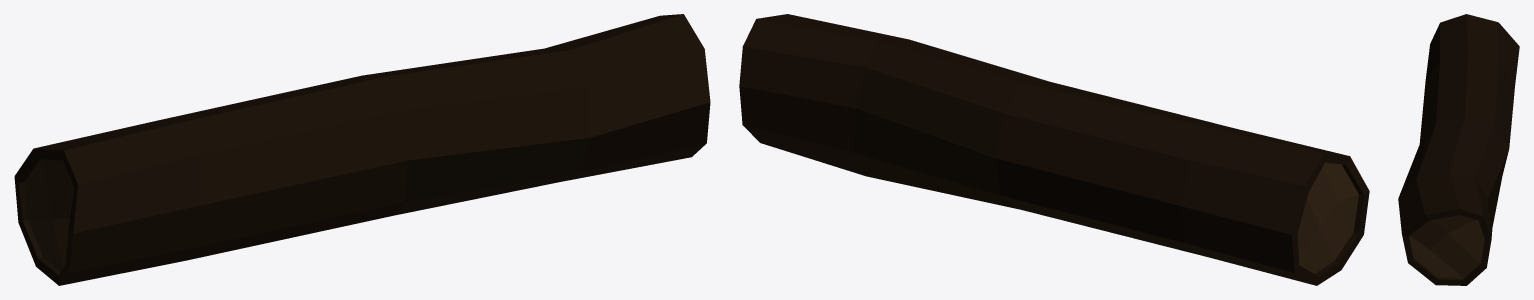
The model's file is Log06_FBX.fbx.
The picture shows the model from 3 angles, left to right: view 1: azimuth 30°, elevation 25°; view 2: azimuth 150°, elevation 25°; view 3: azimuth 270°, elevation 25°; orthographic projection. The views are drawn at different scales.
Visible parts, largest first — view 1: LOG 16; view 2: LOG 16; view 3: LOG 16.
Part boxes in pixels (x1,y1,x2,y2): LOG 16: [14, 14, 710, 285]; LOG 16: [739, 14, 1369, 285]; LOG 16: [1398, 14, 1519, 285].
Size of the model in its own units: 110 by 22.88 by 29.03.
